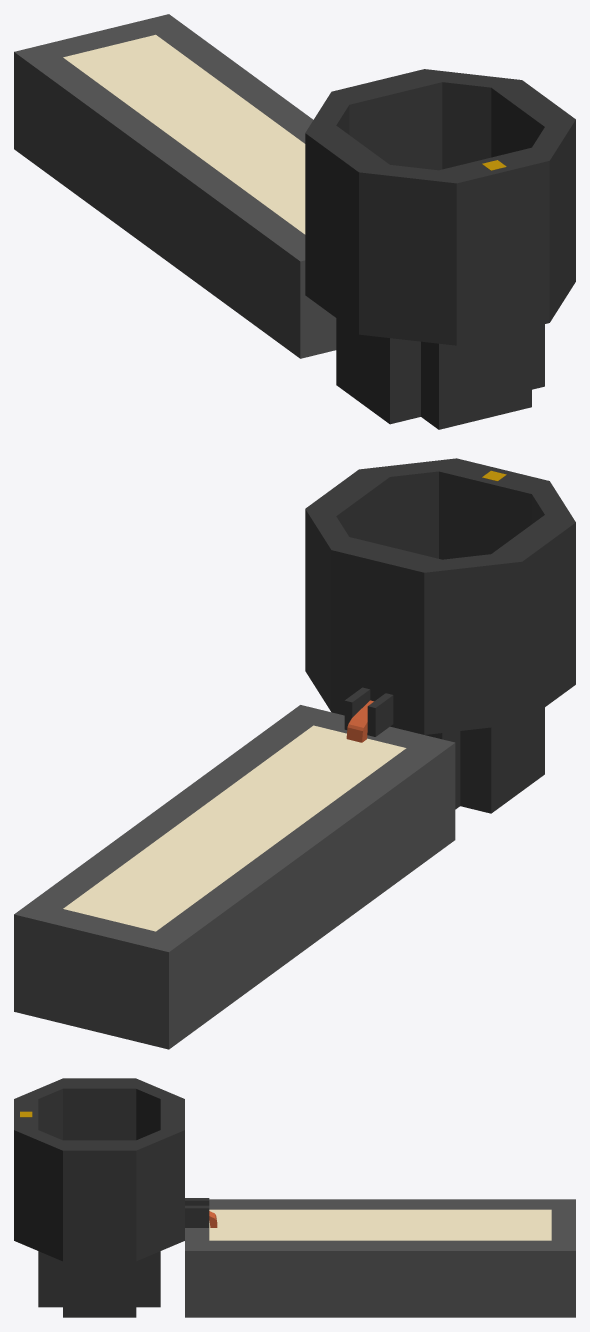
Rendered from Casting Machine.dae.
The picture shows the model from 3 angles, top to bottom: view 1: azimuth 30°, elevation 25°; view 2: azimuth 150°, elevation 25°; view 3: azimuth 270°, elevation 25°; orthographic projection. The views are drawn at different scales.
Visible parts, largest first — view 1: group_0 (×2), group_2, group_1; view 2: group_0 (×3), group_2, group_1; view 3: group_0 (×3), group_2, group_1.
Part boxes in pixels (x1,y1,x2,y2): group_0 (×2): (305, 69, 575, 429); group_2: (14, 14, 336, 358); group_1: (63, 34, 305, 234); group_0 (×3): (305, 458, 575, 813); group_2: (14, 705, 455, 1049); group_1: (63, 725, 406, 931); group_0 (×3): (14, 1078, 209, 1317); group_2: (185, 1199, 575, 1317); group_1: (209, 1209, 551, 1240).
Size of the model in its own units: 276 by 906 by 315.
